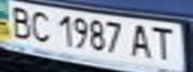1: (51, 11, 75, 47)
7: (103, 18, 127, 55)
8: (87, 17, 109, 53)
9: (69, 15, 90, 49)
A: (127, 21, 157, 60)
B: (3, 2, 36, 39)
C: (24, 8, 54, 44)
T: (148, 25, 181, 62)
